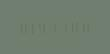eight: (17, 20, 27, 34), (72, 19, 82, 33), (83, 19, 93, 33)
nine: (39, 20, 49, 34)
one: (28, 20, 38, 34)
three: (61, 19, 71, 33), (50, 20, 60, 33)
